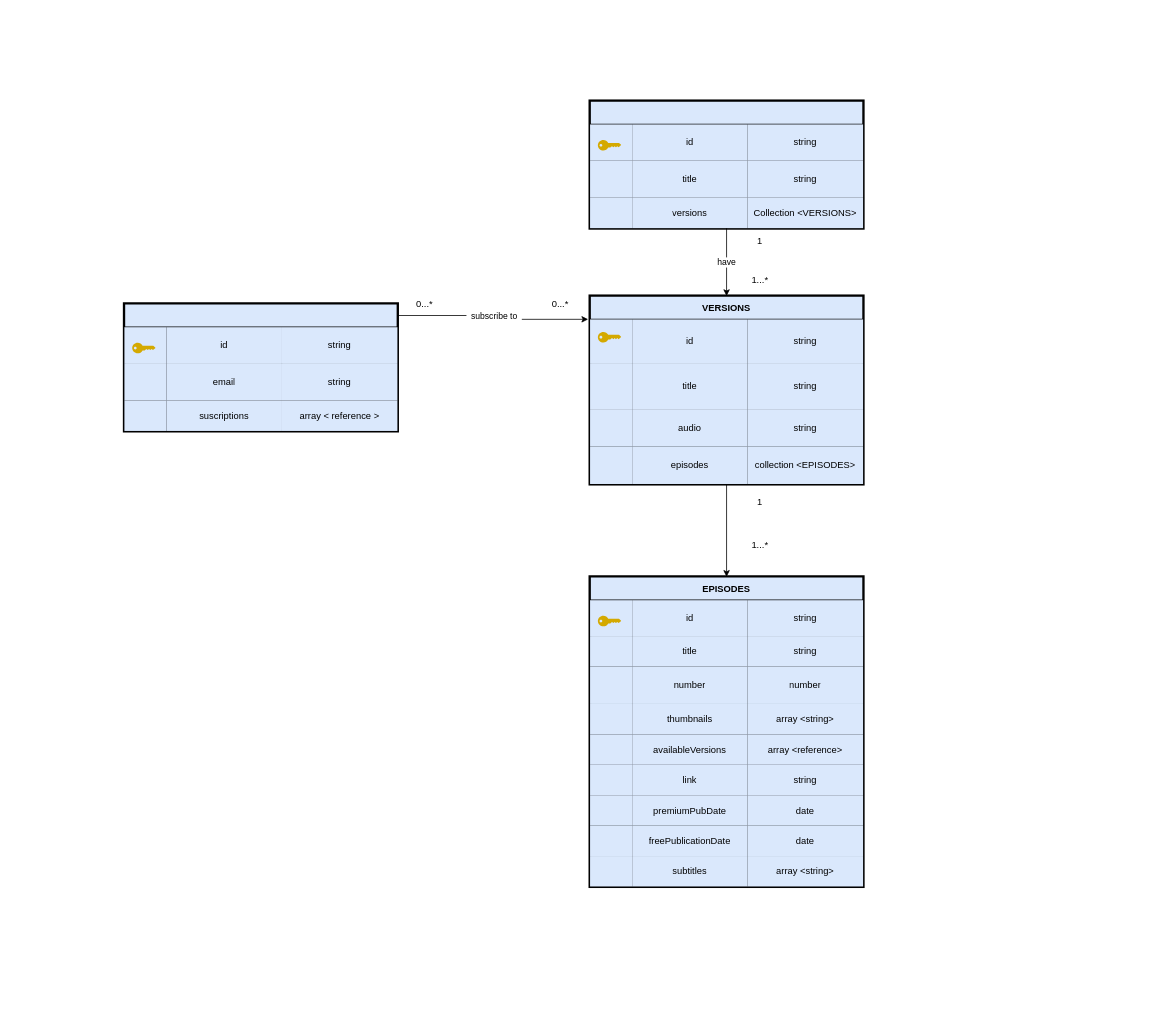
Some shapes in this 1161 by 1020 pixel diagram are drawn without their labels. The shapes that lost their labels are listed below. From the top down, each one's box as (x1, y1, x2, y2) in pixels, then its label:
(589, 100, 863, 229): ANIMES
(123, 303, 398, 431): USERS
